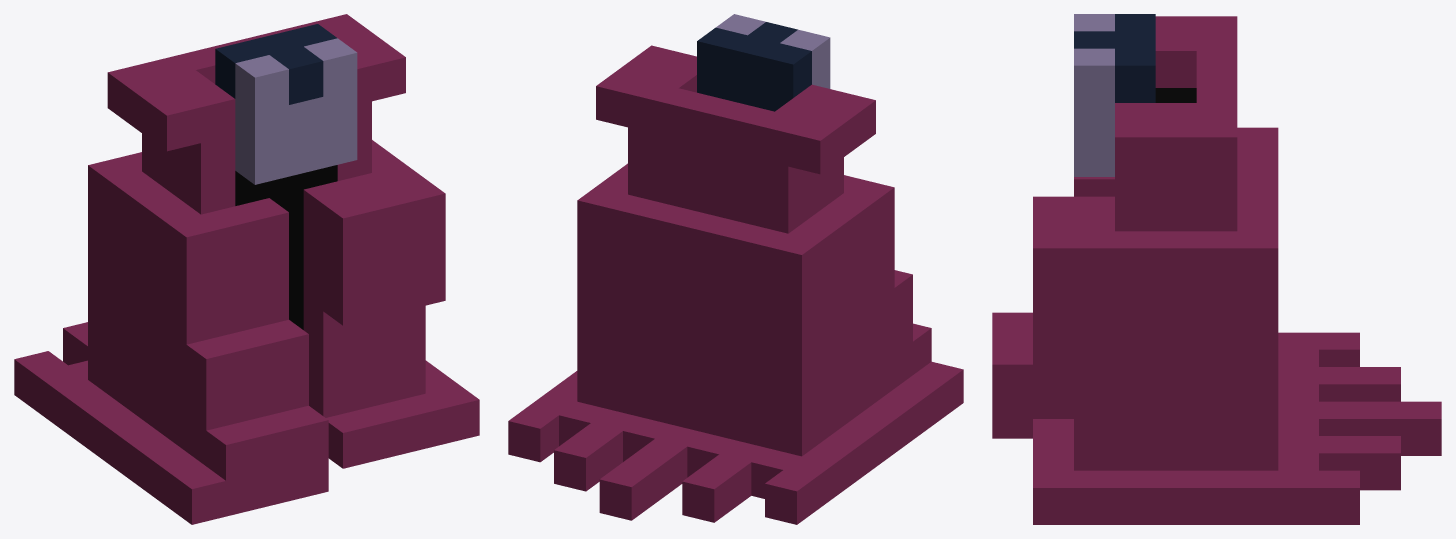
Rendered from vampire_walk_0.obj.
3 views of the same model, side by side, from view 1: azimuth 30°, elevation 25°; view 2: azimuth 150°, elevation 25°; view 3: azimuth 270°, elevation 25° (orthographic). The views are drawn at different scales.
Bounding box in the file's own units: 0.9 × 1.1 × 1.1.
1 material, 1 textured.
